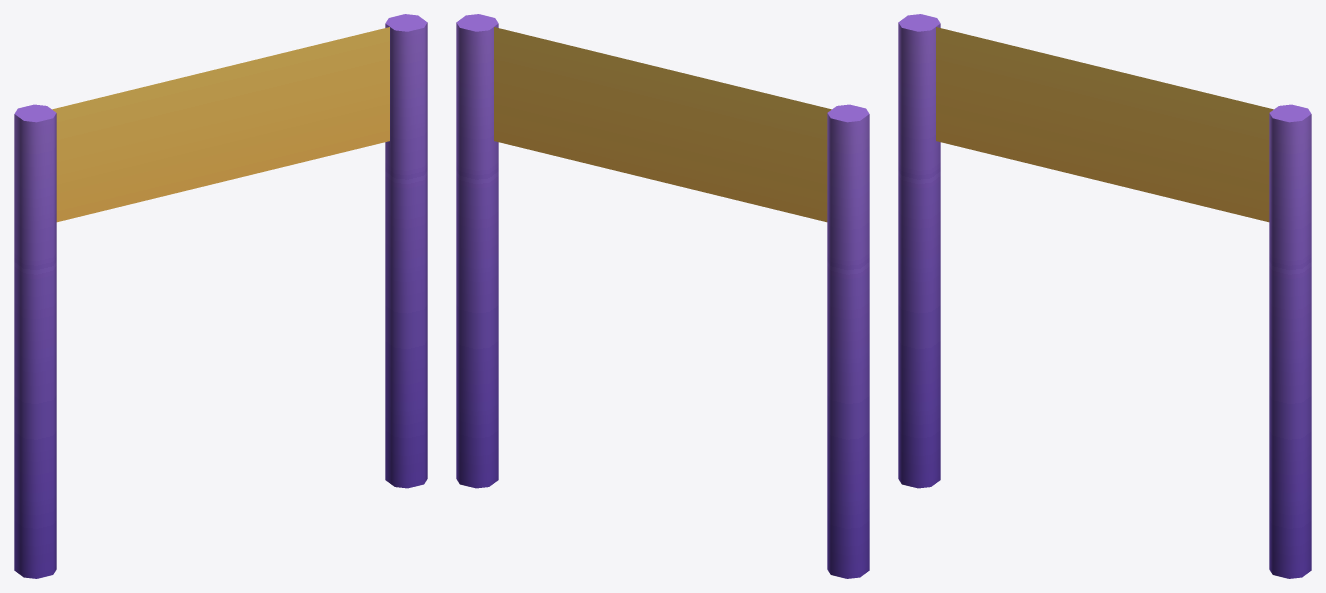
The model's file is banner-high.glb.
3 renders of one model, left to right at view 1: azimuth 30°, elevation 25°; view 2: azimuth 150°, elevation 25°; view 3: azimuth 330°, elevation 25°, orthographic.
Visible parts, largest first — view 1: banner-high; view 2: banner-high; view 3: banner-high.
Boxes of the visible parts, box(x1,y1,x2,y2) form: banner-high: box(14, 14, 427, 578); banner-high: box(456, 14, 869, 578); banner-high: box(898, 14, 1311, 578).
Bounding box in the file's own units: 0.925 × 1 × 0.075.
1 material, 1 textured.
